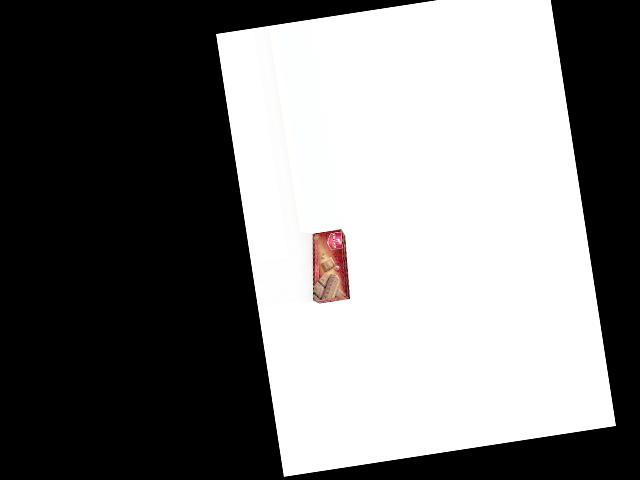chocolate: (302, 228, 355, 303)
